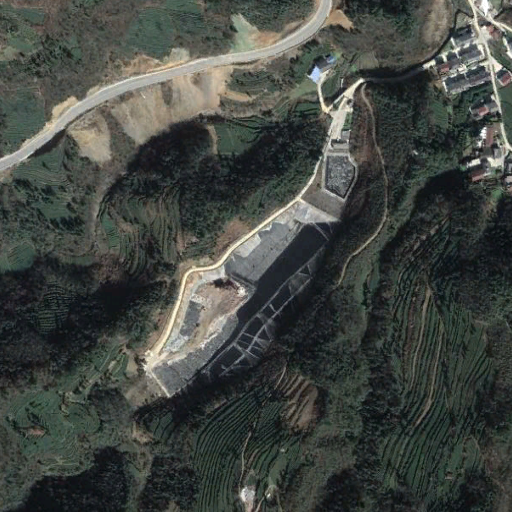lf: (148, 201, 340, 402)
